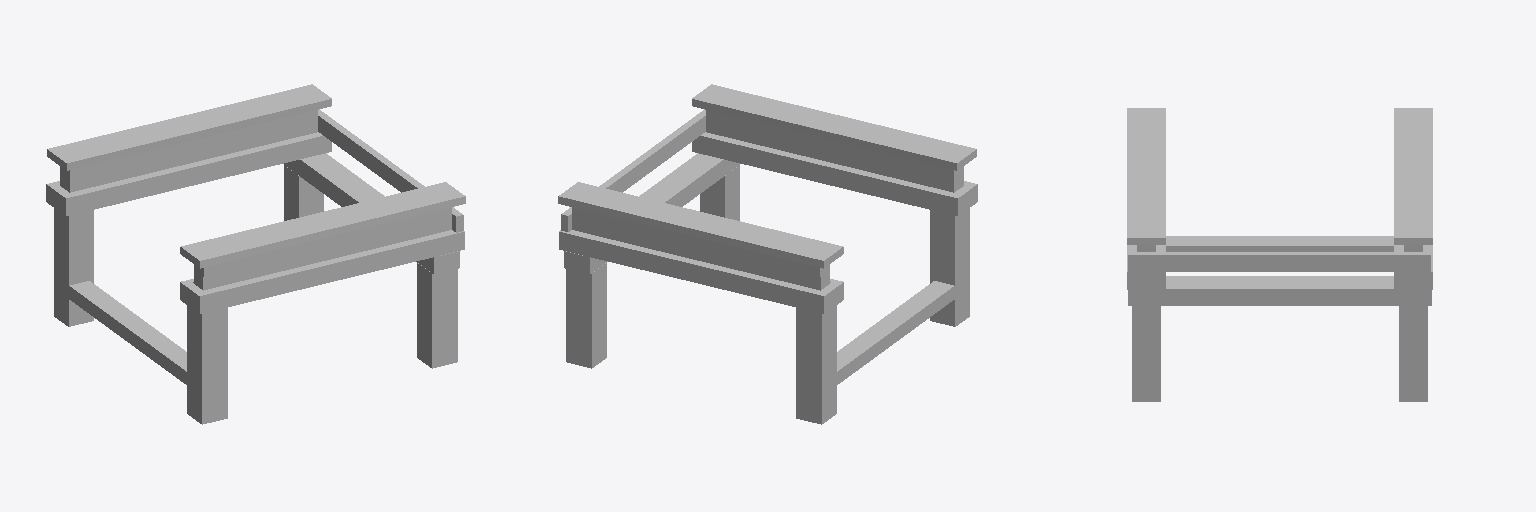
The model's file is mechanical_sieve.obj.
3 views of the same model, side by side, from view 1: azimuth 30°, elevation 25°; view 2: azimuth 150°, elevation 25°; view 3: azimuth 270°, elevation 25° (orthographic).
Visible parts, largest first — view 1: base; view 2: base; view 3: base.
Part boxes in pixels (bbox=[...]): base: bbox=[46, 84, 465, 424]; base: bbox=[558, 84, 977, 424]; base: bbox=[1127, 108, 1432, 401].
Size of the model in its own units: 1 by 0.5994 by 1.